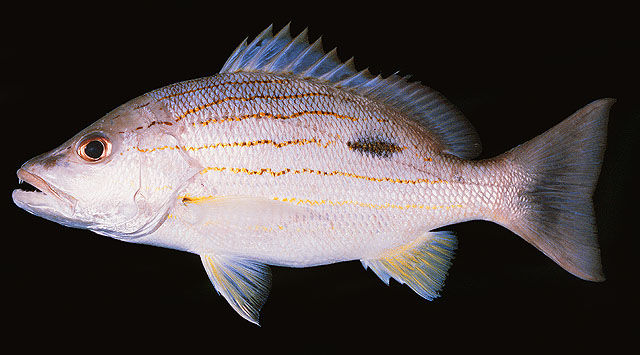fish: (12, 20, 614, 328)
